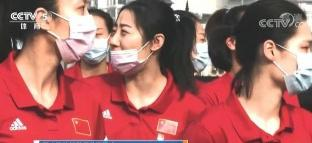OK: (54, 1, 95, 62), (279, 27, 312, 94), (79, 26, 110, 65), (189, 31, 211, 72)
WRONG: (110, 19, 147, 74)
